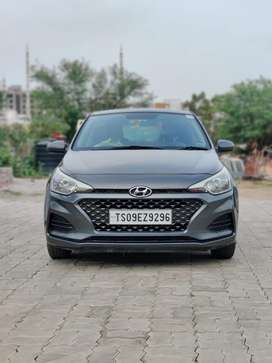TS09EZ9296: (109, 208, 172, 224)
